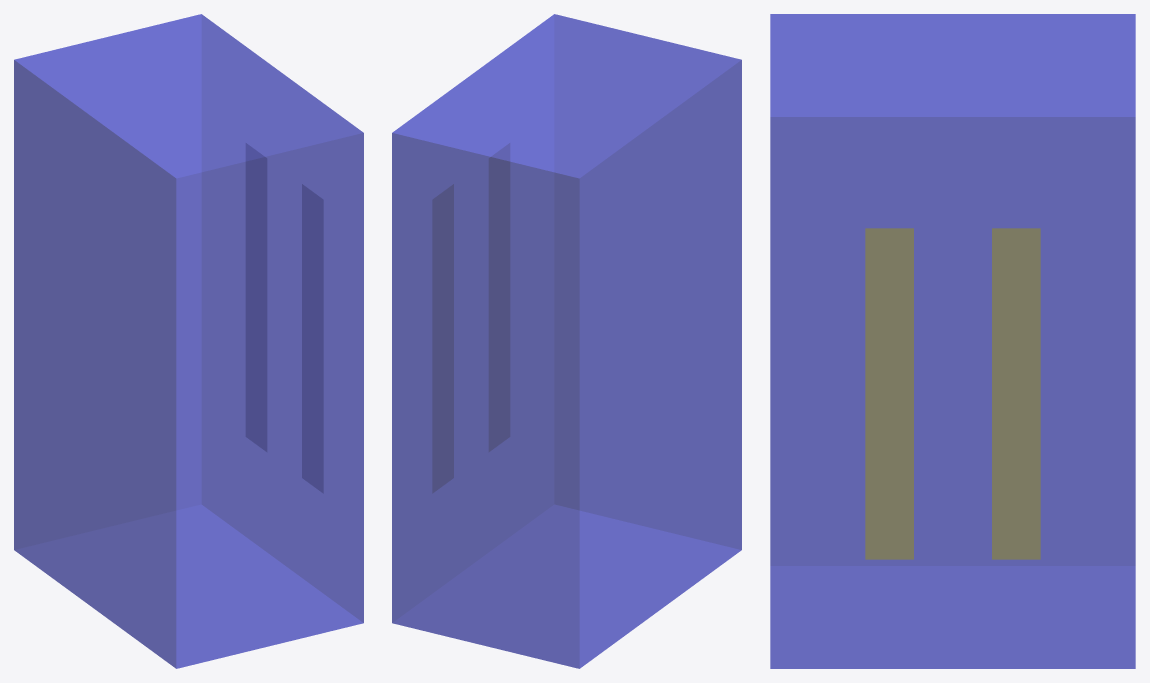
File: MakaronsGhost.fbx
3 views of the same model, side by side, from view 1: azimuth 30°, elevation 25°; view 2: azimuth 150°, elevation 25°; view 3: azimuth 270°, elevation 25° (orthographic). The views are drawn at different scales.
Parts seen in each view (by area): view 1: Cube; view 2: Cube; view 3: Cube, Plane, Plane.001.
Part boxes in pixels (x1,y1,x2,y2): Cube: (14, 14, 363, 668); Cube: (392, 14, 741, 668); Cube: (770, 14, 1135, 668); Plane: (992, 228, 1040, 559); Plane.001: (865, 228, 913, 559).
Bounding box in the file's own units: 10.1 × 25 × 15.
